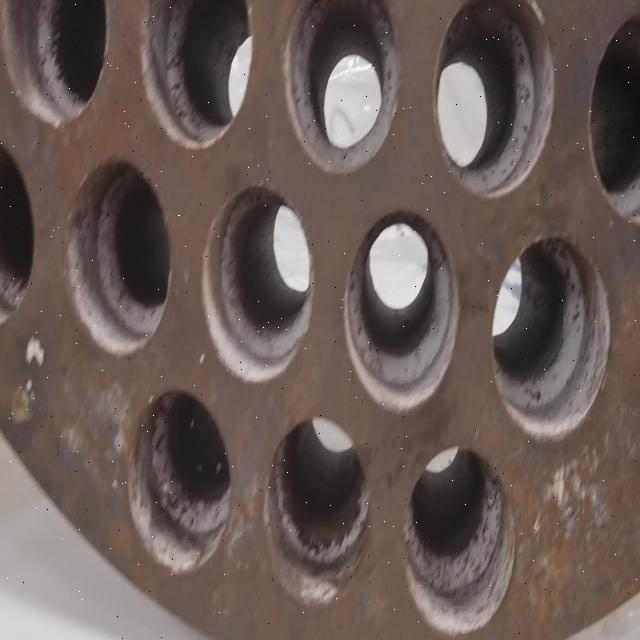Hole: (490, 233, 613, 440), (433, 0, 555, 198), (343, 207, 459, 412), (201, 180, 314, 384), (404, 443, 518, 637), (66, 154, 172, 353), (263, 414, 370, 606), (284, 0, 400, 175), (127, 388, 234, 573), (139, 0, 254, 150), (2, 0, 109, 128), (589, 8, 640, 222)
